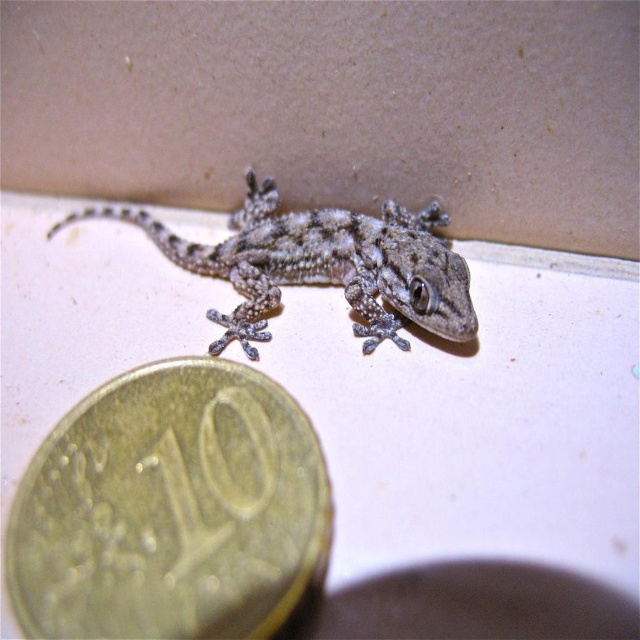Lizard: (49, 169, 477, 363)
